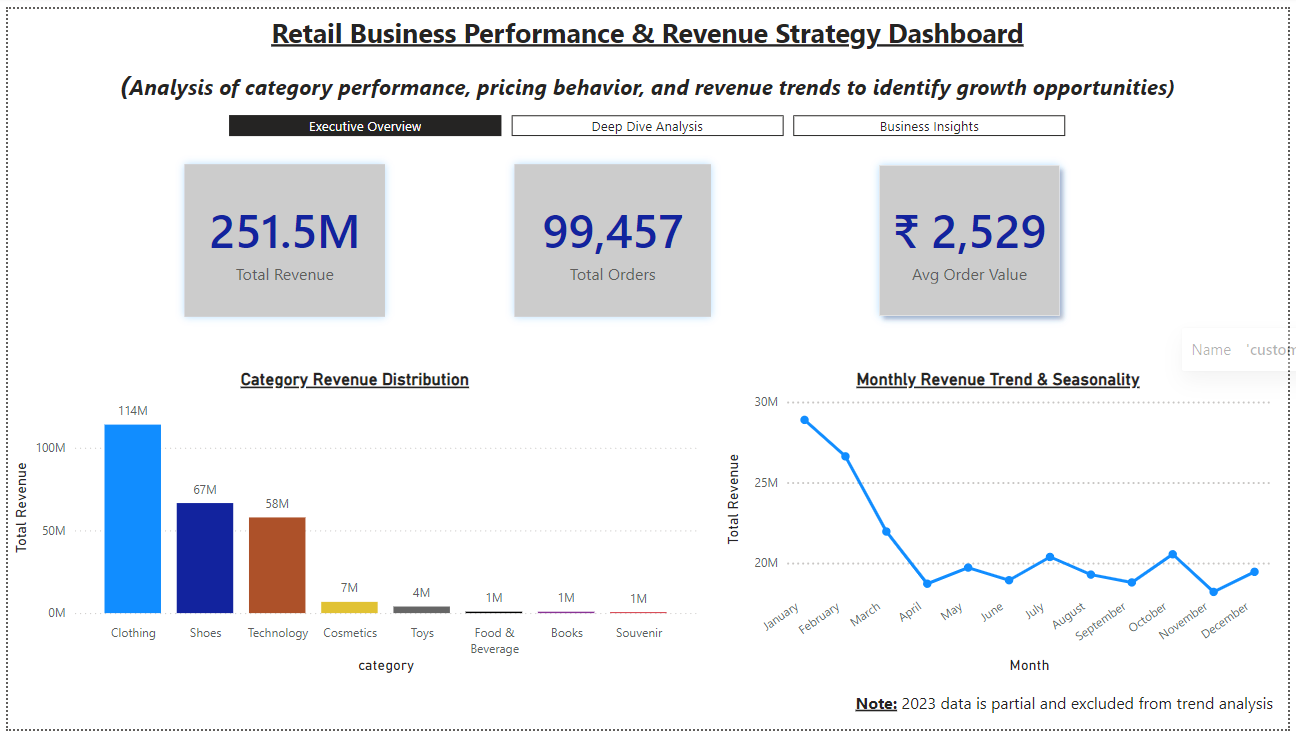

The page's visual inventory and layout, read from the dashboard file:
{"tool":"powerbi","page":{"name":"Executive Overview","canvas":[1280,720],"ordinal":0},"visuals":[{"type":"cardVisual","fields":{"Data":["customer_shopping_data.Total Revenue"]},"box":[148.8,127.5,256.2,208.8],"z":0},{"type":"cardVisual","fields":{"Data":["customer_shopping_data.Total Orders"]},"box":[478.8,127.5,247.5,208.8],"z":1000},{"type":"cardVisual","fields":{"Data":["customer_shopping_data.Avg Order Value"]},"box":[842.5,127.5,238.8,208.8],"z":2000},{"type":"clusteredColumnChart","title":"Category Revenue Distribution","fields":{"Category":["customer_shopping_data.category"],"Y":["customer_shopping_data.Total Revenue"]},"box":[0,360,693.8,308.8],"z":3000},{"type":"lineChart","title":"Monthly Revenue Trend & Seasonality","fields":{"Y":["customer_shopping_data.Total Revenue"],"Category":["customer_shopping_data.invoice_date.Variation.Date Hierarchy.Month"]},"box":[712.5,360,555,308.8],"z":4000},{"type":"textbox","box":[62.5,0,1153.8,106.2],"z":5000},{"type":"textbox","box":[842.5,677.5,437.5,42.5],"z":6000},{"type":"pageNavigator","box":[221.2,106.2,837.5,21.2],"z":7000}]}

Visuals, with their boxes in screenshot pixels (x1, y1, x2, y2), scaled from the page's 1280x720 canvas onto the 1296x735 screenshot:
cardVisual - customer_shopping_data.Total Revenue: box(151, 130, 410, 343)
cardVisual - customer_shopping_data.Total Orders: box(485, 130, 735, 343)
cardVisual - customer_shopping_data.Avg Order Value: box(853, 130, 1095, 343)
"Category Revenue Distribution" clusteredColumnChart: box(0, 368, 702, 683)
"Monthly Revenue Trend & Seasonality" lineChart: box(721, 368, 1283, 683)
textbox: box(63, 0, 1232, 108)
textbox: box(853, 692, 1295, 734)
pageNavigator: box(224, 108, 1072, 130)
